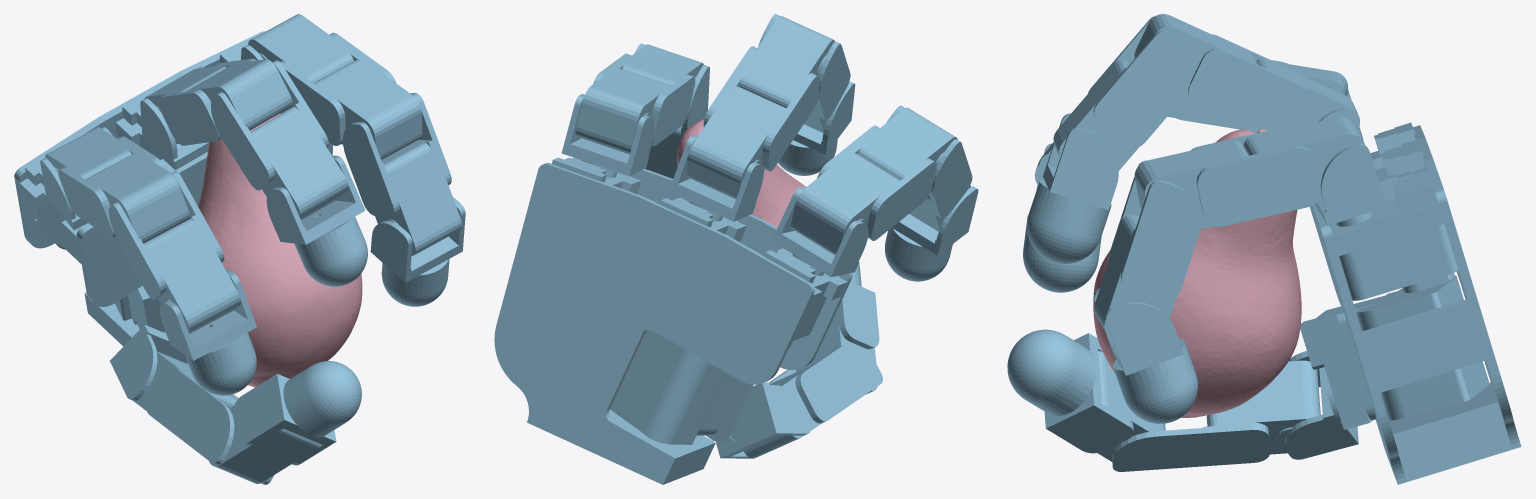
The picture shows the model from 3 angles, left to right: view 1: azimuth 30°, elevation 25°; view 2: azimuth 150°, elevation 25°; view 3: azimuth 270°, elevation 25°; orthographic projection. The views are drawn at different scales.
Visible parts, largest first — view 1: world, pear.stl; view 2: world, pear.stl; view 3: world, pear.stl.
Boxes of the visible parts, bbox=[...] form: world: bbox=[14, 14, 465, 484]; pear.stl: bbox=[198, 113, 362, 387]; world: bbox=[494, 14, 978, 484]; pear.stl: bbox=[677, 118, 805, 227]; world: bbox=[1007, 14, 1521, 484]; pear.stl: bbox=[1093, 129, 1301, 417].
Size of the model in its own units: 0.1428 by 0.16 by 0.1621.
